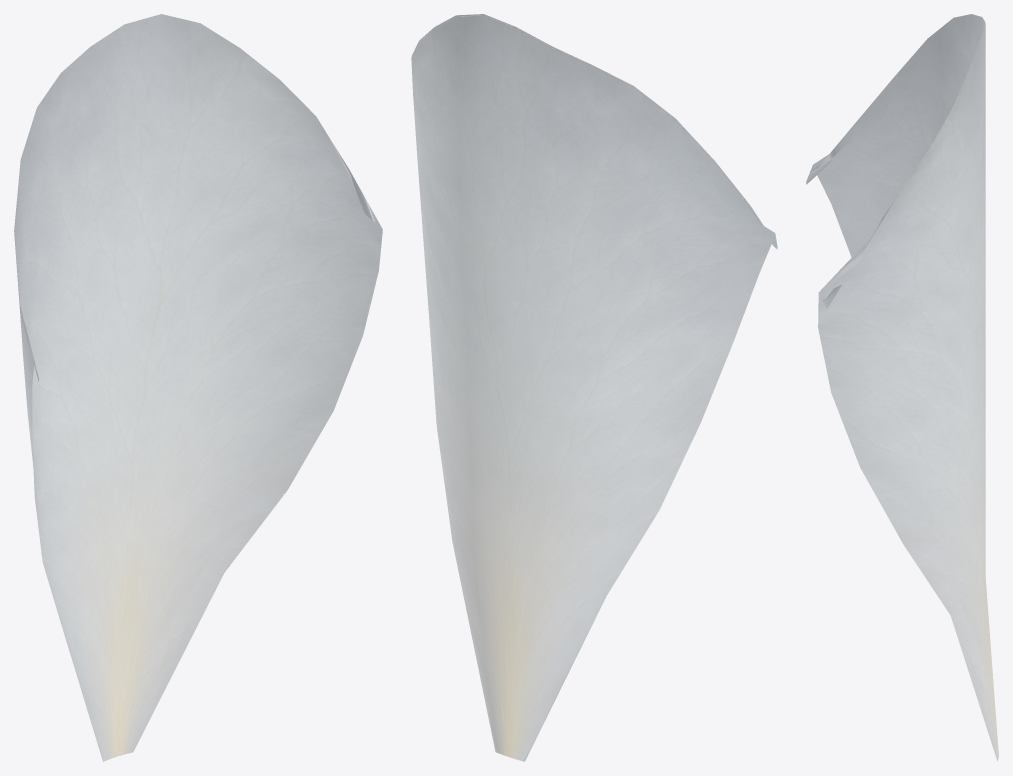
Rendered from inner_04.glb.
The picture shows the model from 3 angles, left to right: view 1: azimuth 30°, elevation 25°; view 2: azimuth 150°, elevation 25°; view 3: azimuth 270°, elevation 25°; orthographic projection.
Parts seen in each view (by area): view 1: inner_04; view 2: inner_04; view 3: inner_04.
Part boxes in pixels (x1,y1,x2,y2): inner_04: (14,14,382,761); inner_04: (411,14,777,761); inner_04: (806,14,998,761).
Bounding box in the file's own units: 0.0329 × 0.0663 × 0.0157.
1 material, 1 textured.
